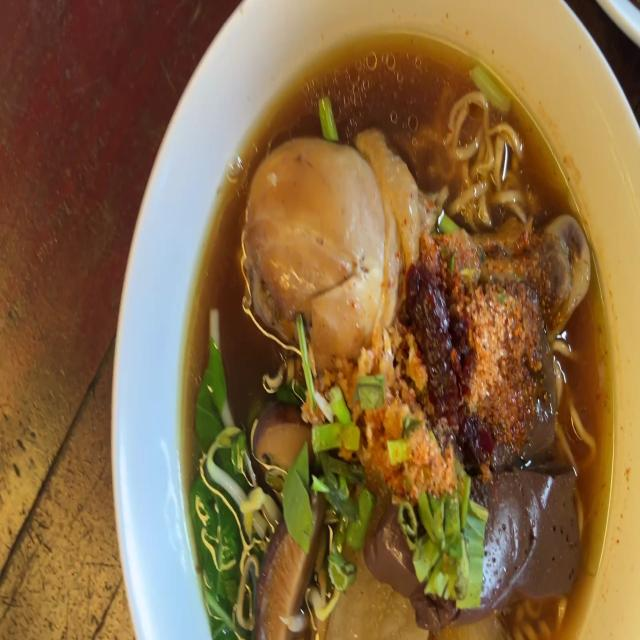boiled_chicken_blood_jelly: (471, 472, 584, 594)
chicken_drumstick: (242, 144, 589, 336)
daikon_radish: (319, 559, 506, 640)
noodle: (168, 35, 607, 640)
